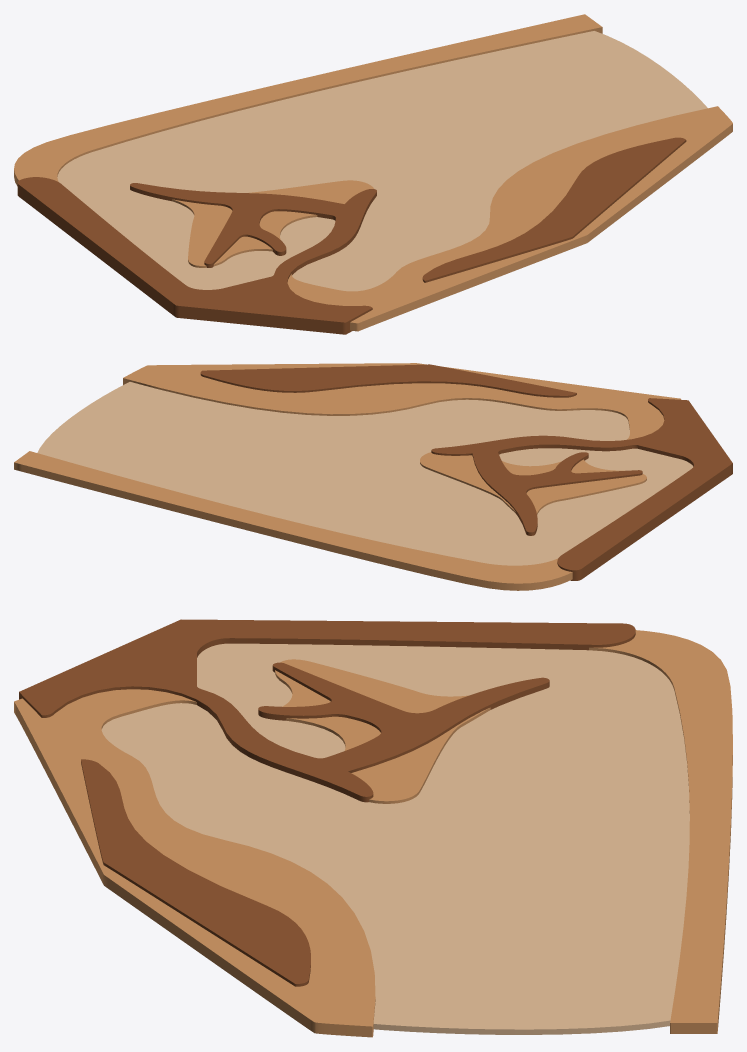
Rendered from emoji_u1f91b_1f3fc.glb.
3 views of the same model, one above another, from view 1: azimuth 30°, elevation 25°; view 2: azimuth 150°, elevation 25°; view 3: azimuth 270°, elevation 25° (orthographic). The views are drawn at different scales.
Parts seen in each view (by area): view 1: emoji_u1f91b_1f3fc; view 2: emoji_u1f91b_1f3fc; view 3: emoji_u1f91b_1f3fc.
Boxes of the visible parts, x1,y1,x2,y2 form: emoji_u1f91b_1f3fc: (14, 14, 732, 334); emoji_u1f91b_1f3fc: (14, 363, 732, 590); emoji_u1f91b_1f3fc: (14, 619, 732, 1037).
Size of the model in its own units: 0.0318 by 0.0006 by 0.0239.
